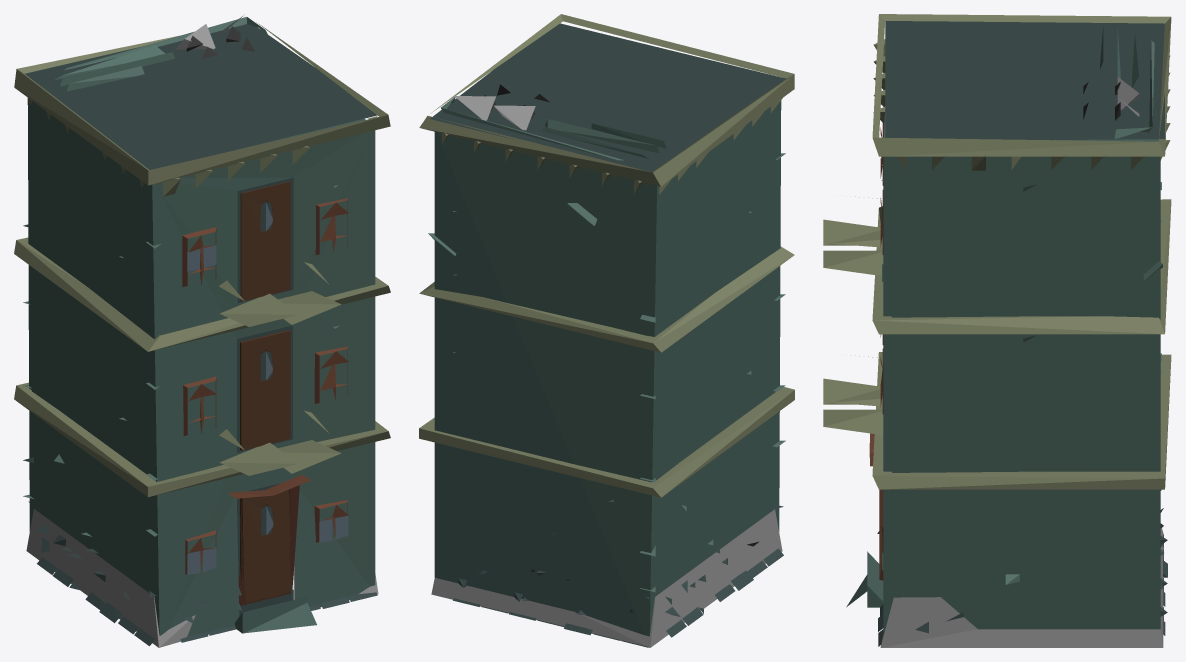
Rendered from 3Story_Balcony_lod.glb.
The picture shows the model from 3 angles, left to right: view 1: azimuth 30°, elevation 25°; view 2: azimuth 150°, elevation 25°; view 3: azimuth 270°, elevation 25°; orthographic projection. The views are drawn at different scales.
Parts seen in each view (by area): view 1: 3Story_Balcony_Mat; view 2: 3Story_Balcony_Mat; view 3: 3Story_Balcony_Mat.
Boxes of the visible parts, x1,y1,x2,y2 form: 3Story_Balcony_Mat: [14, 15, 390, 647]; 3Story_Balcony_Mat: [419, 14, 794, 647]; 3Story_Balcony_Mat: [823, 14, 1171, 647].
Size of the model in its own units: 2.16 by 4.2 by 2.51.
